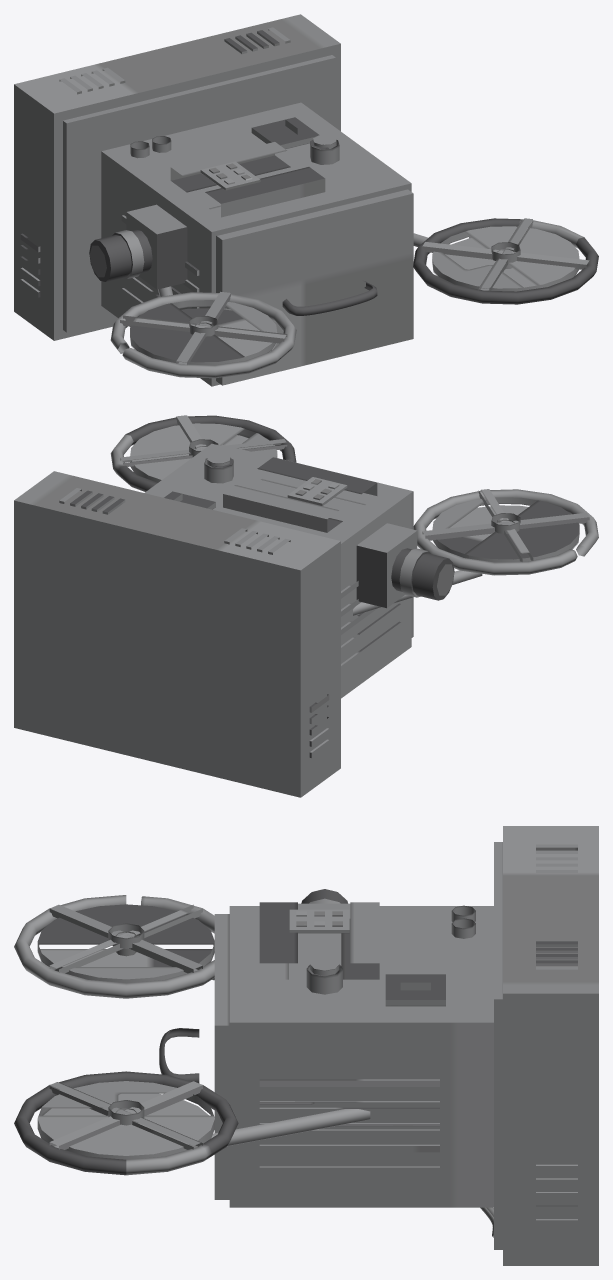
The picture shows the model from 3 angles, top to bottom: view 1: azimuth 30°, elevation 25°; view 2: azimuth 150°, elevation 25°; view 3: azimuth 270°, elevation 25°; orthographic projection. The views are drawn at different scales.
Bounding box in the file's own units: 1.23 × 0.5998 × 1.12.
